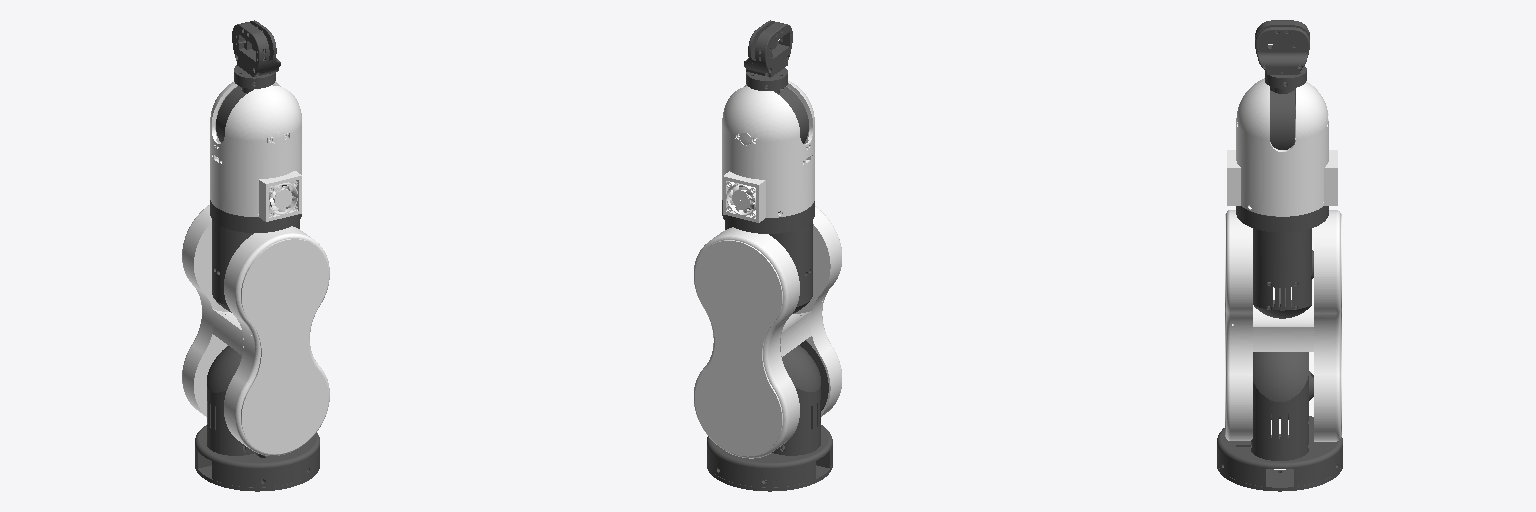
robot.urdf — thor:
<?xml version="1.0" ?>
<!-- =================================================================================== -->
<!-- |    This document was autogenerated by xacro from /media/psf/thor-ros-moveit/src/thor_description/urdf/thor.xacro | -->
<!-- |    EDITING THIS FILE BY HAND IS NOT RECOMMENDED                                 | -->
<!-- =================================================================================== -->
<robot name="thor">
    <gazebo>
        <plugin filename="libgazebo_ros_control.so" name="gazebo_ros_control">
            <robotNamespace>/</robotNamespace>
            <robotSimType>gazebo_ros_control/DefaultRobotHWSim</robotSimType>
        </plugin>
    </gazebo>
    <gazebo reference="link_base">
        <material>Gazebo/White</material>
    </gazebo>
    <gazebo reference="link_art1">
        <material>Gazebo/Black</material>
    </gazebo>
    <gazebo reference="link_art2">
        <material>Gazebo/White</material>
    </gazebo>
    <gazebo reference="link_art3">
        <material>Gazebo/Black</material>
    </gazebo>
    <gazebo reference="link_art4">
        <material>Gazebo/White</material>
    </gazebo>
    <gazebo reference="link_art5">
        <material>Gazebo/Black</material>
    </gazebo>
    <gazebo reference="link_art6">
        <material>Gazebo/Black</material>
    </gazebo>
    <gazebo reference="link_hand">
        <material>Gazebo/Black</material>
    </gazebo>
    <gazebo reference="link_finger_left">
        <material>Gazebo/White</material>
    </gazebo>
    <gazebo reference="link_finger_right">
        <material>Gazebo/White</material>
    </gazebo>
    <link name="dummy_link" />
    <joint name="dummy_joint" type="fixed">
        <parent link="dummy_link" />
        <child link="link_base" />
    </joint>
    <link name="link_base">
        <collision>
            <origin rpy="0 0 0" xyz="0 0 0" />
            <geometry>
                <mesh filename="package://thor_description/meshes/base.stl" scale="0.001 0.001 0.001" />
            </geometry>
        </collision>
        <visual>
            <origin rpy="0 0 0" xyz="0 0 0" />
            <geometry>
                <mesh filename="package://thor_description/meshes/base.stl" scale="0.001 0.001 0.001" />
            </geometry>
            <material name="white">
                <color rgba="1 1 1 1" />
            </material>
        </visual>
        <inertial>
            <mass value="20" />
            <inertia ixx="4778335232" ixy="61676072" ixz="-346234336" iyy="9956602880" iyz="-3673513" izz="12350248960" />
            <origin xyz="0 0 0" rpy="0 0 0" />
        </inertial>
    </link>
    <joint name="joint_base_art1_yaw" type="revolute">
        <origin rpy="0 0 0" xyz="0 0 0.104" />
        <axis xyz="0 0 1" />
        <parent link="link_base" />
        <child link="link_art1" />
        <limit effort="8" lower="-3.1415" upper="3.1415" velocity="1" />
    </joint>
    <link name="link_art1">
        <collision>
            <origin rpy="0 0 0" xyz="0 0 0" />
            <geometry>
                <mesh filename="package://thor_description/meshes/art1.stl" scale="0.001 0.001 0.001" />
            </geometry>
        </collision>
        <visual>
            <origin rpy="0 0 0" xyz="0 0 0" />
            <geometry>
                <mesh filename="package://thor_description/meshes/art1.stl" scale="0.001 0.001 0.001" />
            </geometry>
            <material name="black">
                <color rgba="0.4 0.4 0.4 1" />
            </material>
        </visual>
        <inertial>
            <mass value="1.6" />
            <inertia ixx="2091996160" ixy="-6433.202148" ixz="-9487.117188" iyy="2178797312" iyz="96796960" izz="1449157760" />
            <origin xyz="0 0 0" rpy="0 0 0" />
        </inertial>
    </link>
    <joint name="joint_art1_art2_pitch" type="revolute">
        <origin rpy="1.5707963267948966 -1.5707963267948966 0" xyz="0 -0.0318752 0.0974304" />
        <axis xyz="0 0 1" />
        <parent link="link_art1" />
        <child link="link_art2" />
        <limit effort="20" lower="-1.5707963267948966" upper="1.5707963267948966" velocity="1" />
    </joint>
    <link name="link_art2">
        <collision>
            <origin rpy="0 0 0" xyz="0 0 0" />
            <geometry>
                <mesh filename="package://thor_description/meshes/art2.stl" scale="0.001 0.001 0.001" />
            </geometry>
        </collision>
        <visual>
            <origin rpy="0 0 0" xyz="0 0 0" />
            <geometry>
                <mesh filename="package://thor_description/meshes/art2.stl" scale="0.001 0.001 0.001" />
            </geometry>
            <material name="white" />
        </visual>
        <inertial>
            <mass value="0.8" />
            <inertia ixx="2494758144" ixy="169831.156250" ixz="-192684608" iyy="5296528896" iyz="-4347370" izz="4277223680" />
            l
            <origin xyz="0 0 0" rpy="0 0 0" />
        </inertial>
    </link>
    <joint name="joint_art2_art3_pitch" type="revolute">
        <origin rpy="0 0 0" xyz="0.160 0 0" />
        <axis xyz="0 0 1" />
        <parent link="link_art2" />
        <child link="link_art3" />
        <limit effort="8" lower="-1.5707963267948966" upper="1.5707963267948966" velocity="1" />
    </joint>
    <link name="link_art3">
        <collision>
            <origin rpy="0 0 0" xyz="0 0 0" />
            <geometry>
                <mesh filename="package://thor_description/meshes/art3.stl" scale="0.001 0.001 0.001" />
            </geometry>
        </collision>
        <visual>
            <origin rpy="0 0 0" xyz="0 0 0" />
            <geometry>
                <mesh filename="package://thor_description/meshes/art3.stl" scale="0.001 0.001 0.001" />
            </geometry>
            <material name="black" />
        </visual>
        <inertial>
            <mass value="1.1" />
            <inertia ixx="509821408" ixy="-4423478.5" ixz="1108099" iyy="861984512" iyz="-62569.3125" izz="946194816" />
            <origin xyz="0 0 0" rpy="0 0 0" />
        </inertial>
    </link>
    <joint name="joint_art3_art4_roll" type="revolute">
        <origin rpy="0 1.5707963267948966 0" xyz="0.0885 0 -0.035" />
        <axis xyz="0 0 1" />
        <parent link="link_art3" />
        <child link="link_art4" />
        <limit effort="4" lower="-3.1415" upper="3.1415" velocity="1" />
    </joint>
    <link name="link_art4">
        <collision>
            <origin rpy="0 0 0" xyz="0 0 0" />
            <geometry>
                <mesh filename="package://thor_description/meshes/art4.stl" scale="0.001 0.001 0.001" />
            </geometry>
        </collision>
        <visual>
            <origin rpy="0 0 0" xyz="0 0 0" />
            <geometry>
                <mesh filename="package://thor_description/meshes/art4.stl" scale="0.001 0.001 0.001" />
            </geometry>
            <material name="white" />
        </visual>
        <inertial>
            <mass value="0.5" />
            <inertia ixx="766526720" ixy="513188.25" ixz="-15419.867188" iyy="898525120" iyz="546204.625" izz="718228096" />
            <origin xyz="0 0 0" rpy="0 0 0" />
        </inertial>
    </link>
    <joint name="joint_art4_art5_pitch" type="revolute">
        <origin rpy="0 -1.5707963267948966 0" xyz="0 0 0.1" />
        <axis xyz="0 0 1" />
        <parent link="link_art4" />
        <child link="link_art5" />
        <limit effort="6" lower="-1.5" upper="1.5" velocity="1" />
    </joint>
    <link name="link_art5">
        <collision>
            <origin rpy="0 0 0" xyz="0 0 0" />
            <geometry>
                <mesh filename="package://thor_description/meshes/art5.stl" scale="0.001 0.001 0.001" />
            </geometry>
        </collision>
        <visual>
            <origin rpy="0 0 0" xyz="0 0 0" />
            <geometry>
                <mesh filename="package://thor_description/meshes/art5.stl" scale="0.001 0.001 0.001" />
            </geometry>
            <material name="black" />
        </visual>
        <inertial>
            <mass value="0.5" />
            <inertia ixx="22853730" ixy="-103.737335" ixz="-10548.656250" iyy="16640192" iyz="-0.059193" izz="36724072" />
            <origin xyz="0 0 0" rpy="0 0 0" />
        </inertial>
    </link>
    <joint name="joint_art5_art6_roll" type="revolute">
        <origin rpy="0 1.5707963267948966 0" xyz="0 0 0" />
        <axis xyz="0 0 1" />
        <parent link="link_art5" />
        <child link="link_art6" />
        <limit effort="4" lower="-3.1415" upper="3.1415" velocity="1" />
    </joint>
    <link name="link_art6">
        <collision>
            <origin rpy="0 0 0" xyz="0 0 0" />
            <geometry>
                <mesh filename="package://thor_description/meshes/art6.stl" scale="0.001 0.001 0.001" />
            </geometry>
        </collision>
        <visual>
            <origin rpy="0 0 0" xyz="0 0 0" />
            <geometry>
                <mesh filename="package://thor_description/meshes/art6.stl" scale="0.001 0.001 0.001" />
            </geometry>
            <material name="black" />
        </visual>
        <inertial>
            <mass value="0.5" />
            <inertia ixx="33753776" ixy="-2.472111" ixz="-21.388384" iyy="33753756" iyz="0.078231" izz="24939260" />
            <origin xyz="0 0 0" rpy="0 0 0" />
        </inertial>
    </link>
    <joint name="joint_arm_hand" type="fixed">
        <origin rpy="1.5707963267948966 0 0" xyz="0 0.015 0.07" />
        <parent link="link_art6" />
        <child link="link_hand" />
    </joint>
    <link name="link_hand">
        <collision>
            <origin rpy="0 0 0" xyz="0 0 0" />
            <geometry>
                <mesh filename="package://thor_description/meshes/hand.stl" scale="0.001 0.001 0.001" />
            </geometry>
        </collision>
        <visual>
            <origin rpy="0 0 0" xyz="0 0 0" />
            <geometry>
                <mesh filename="package://thor_description/meshes/hand.stl" scale="0.001 0.001 0.001" />
            </geometry>
            <material name="black" />
        </visual>
        <inertial>
            <mass value="0.11" />
            <inertia ixx="17803724" ixy="-414543.5" ixz="225471.4375" iyy="21783168" iyz="-1840743.875" izz="28014524" />
            <origin xyz="0 0 0" rpy="0 0 0" />
        </inertial>
    </link>
    <joint name="joint_hand_finger_left" type="prismatic">
        <parent link="link_hand" />
        <child link="link_finger_left" />
        <origin rpy="0 0 0" xyz="0.05 0.02 0" />
        <axis xyz="-0.5547 0.8321 0" />
        <limit effort="100" lower="0.0" upper="0.06" velocity="10" />
        <dynamics damping="0.3" friction="0.5" />
    </joint>
    <joint name="joint_hand_finger_right" type="prismatic">
        <parent link="link_hand" />
        <child link="link_finger_right" />
        <origin rpy="0 0 0" xyz="-0.05 0.02 0" />
        <axis xyz="0.5547 0.8321 0" />
        <limit effort="100" lower="0.0" upper="0.06" velocity="10" />
        <mimic joint="joint_hand_finger_left" />
        <dynamics damping="0.3" friction="0.5" />
    </joint>
    <gazebo>
        <plugin filename="libroboticsgroup_upatras_gazebo_mimic_joint_plugin.so" name="joint_hand_finger_right_mimic_joint_plugin">
            <joint>joint_hand_finger_left</joint>
            <mimicJoint>joint_hand_finger_right</mimicJoint>
            <multiplier>1.0</multiplier>
            <offset>0</offset>
            <sensitiveness>0.0</sensitiveness>
            <maxEffort>1.0</maxEffort>
        </plugin>
    </gazebo>
    <link name="link_finger_left">
        <collision>
            <origin rpy="0 0 0" xyz="0 0 0" />
            <geometry>
                <mesh filename="package://thor_description/meshes/finger.stl" scale="-0.001 0.001 0.001" />
            </geometry>
        </collision>
        <visual>
            <origin rpy="0 0 0" xyz="0 0 0" />
            <geometry>
                <mesh filename="package://thor_description/meshes/finger.stl" scale="-0.001 0.001 0.001" />
            </geometry>
            <material name="white" />
        </visual>
        <inertial>
            <mass value="0.01" />
            <inertia ixx="3358780.25" ixy="-145110.265625" ixz="93.539124" iyy="627437.875" iyz="1280.361816" izz="3410634.5" />
            <origin xyz="0 0 0" rpy="0 0 0" />
        </inertial>
    </link>
    <link name="link_finger_right">
        <collision>
            <origin rpy="0 0 0" xyz="0 0 0" />
            <geometry>
                <mesh filename="package://thor_description/meshes/finger.stl" scale="0.001 0.001 0.001" />
            </geometry>
        </collision>
        <visual>
            <origin rpy="0 0 0" xyz="0 0 0" />
            <geometry>
                <mesh filename="package://thor_description/meshes/finger.stl" scale="0.001 0.001 0.001" />
            </geometry>
            <material name="white" />
        </visual>
        <inertial>
            <mass value="0.01" />
            <inertia ixx="3358780.25" ixy="-145110.265625" ixz="93.539124" iyy="627437.875" iyz="1280.361816" izz="3410634.5" />
            <origin xyz="0 0 0" rpy="0 0 0" />
        </inertial>
    </link>
    <transmission name="trans_joint_base_art1_yaw">
        <type>transmission_interface/SimpleTransmission</type>
        <joint name="joint_base_art1_yaw">
            <hardwareInterface>hardware_interface/PositionJointInterface</hardwareInterface>
        </joint>
        <actuator name="joint_base_art1_yaw_motor">
            <hardwareInterface>hardware_interface/PositionJointInterface</hardwareInterface>
            <mechanicalReduction>1</mechanicalReduction>
        </actuator>
    </transmission>
    <transmission name="trans_joint_art1_art2_pitch">
        <type>transmission_interface/SimpleTransmission</type>
        <joint name="joint_art1_art2_pitch">
            <hardwareInterface>hardware_interface/PositionJointInterface</hardwareInterface>
        </joint>
        <actuator name="joint_art1_art2_pitch_motor">
            <hardwareInterface>hardware_interface/PositionJointInterface</hardwareInterface>
            <mechanicalReduction>1</mechanicalReduction>
        </actuator>
    </transmission>
    <transmission name="trans_joint_art2_art3_pitch">
        <type>transmission_interface/SimpleTransmission</type>
        <joint name="joint_art2_art3_pitch">
            <hardwareInterface>hardware_interface/PositionJointInterface</hardwareInterface>
        </joint>
        <actuator name="joint_art2_art3_pitch_motor">
            <hardwareInterface>hardware_interface/PositionJointInterface</hardwareInterface>
            <mechanicalReduction>1</mechanicalReduction>
        </actuator>
    </transmission>
    <transmission name="trans_joint_art3_art4_roll">
        <type>transmission_interface/SimpleTransmission</type>
        <joint name="joint_art3_art4_roll">
            <hardwareInterface>hardware_interface/PositionJointInterface</hardwareInterface>
        </joint>
        <actuator name="joint_art3_art4_roll_motor">
            <hardwareInterface>hardware_interface/PositionJointInterface</hardwareInterface>
            <mechanicalReduction>1</mechanicalReduction>
        </actuator>
    </transmission>
    <transmission name="trans_joint_art4_art5_pitch">
        <type>transmission_interface/SimpleTransmission</type>
        <joint name="joint_art4_art5_pitch">
            <hardwareInterface>hardware_interface/PositionJointInterface</hardwareInterface>
        </joint>
        <actuator name="joint_art4_art5_pitch_motor">
            <hardwareInterface>hardware_interface/PositionJointInterface</hardwareInterface>
            <mechanicalReduction>1</mechanicalReduction>
        </actuator>
    </transmission>
    <transmission name="trans_joint_art5_art6_roll">
        <type>transmission_interface/SimpleTransmission</type>
        <joint name="joint_art5_art6_roll">
            <hardwareInterface>hardware_interface/PositionJointInterface</hardwareInterface>
        </joint>
        <actuator name="joint_art5_art6_roll_motor">
            <hardwareInterface>hardware_interface/PositionJointInterface</hardwareInterface>
            <mechanicalReduction>1</mechanicalReduction>
        </actuator>
    </transmission>
    <transmission name="trans_joint_hand_finger_left">
        <type>transmission_interface/SimpleTransmission</type>
        <joint name="joint_hand_finger_left">
            <hardwareInterface>hardware_interface/PositionJointInterface</hardwareInterface>
        </joint>
        <actuator name="joint_hand_finger_left_motor">
            <hardwareInterface>hardware_interface/PositionJointInterface</hardwareInterface>
            <mechanicalReduction>1</mechanicalReduction>
        </actuator>
    </transmission>
    <transmission name="trans_joint_hand_finger_right">
        <type>transmission_interface/SimpleTransmission</type>
        <joint name="joint_hand_finger_right">
            <hardwareInterface>hardware_interface/EffortJointInterface</hardwareInterface>
        </joint>
        <actuator name="joint_hand_finger_right_motor">
            <hardwareInterface>hardware_interface/EffortJointInterface</hardwareInterface>
            <mechanicalReduction>1</mechanicalReduction>
        </actuator>
    </transmission>
</robot>

--- Facts derived from the render (not from the file) ---
Views: 3 orthographic renders of the robot side by side, from view 1: azimuth 30°, elevation 25°; view 2: azimuth 150°, elevation 25°; view 3: azimuth 270°, elevation 25°.
Model thor with 11 links and 10 joints (6 revolute, 2 prismatic, 2 fixed), rooted at dummy_link, posed all joints at 0.
Visible links, largest first — view 1: link_art2, link_art4, link_art1, link_art3, link_hand, link_art6, link_art5; view 2: link_art2, link_art4, link_art1, link_art3, link_hand, link_art6, link_art5; view 3: link_art2, link_art4, link_art1, link_art3, link_hand, link_art5, link_art6.
Boxes of the visible links, box(x1,y1,x2,y2) form: link_art2: box(182, 205, 329, 455); link_art4: box(210, 81, 301, 221); link_art1: box(195, 346, 319, 491); link_art3: box(210, 185, 301, 312); link_hand: box(232, 20, 280, 76); link_art6: box(234, 65, 275, 93); link_art5: box(216, 86, 246, 142); link_art2: box(694, 206, 841, 458); link_art4: box(722, 81, 814, 222); link_art1: box(707, 340, 832, 491); link_art3: box(722, 186, 814, 313); link_hand: box(744, 20, 792, 77); link_art6: box(746, 68, 787, 93); link_art5: box(778, 87, 808, 143); link_art2: box(1225, 210, 1341, 441); link_art4: box(1227, 78, 1337, 216); link_art1: box(1217, 352, 1342, 491); link_art3: box(1236, 206, 1328, 318); link_hand: box(1255, 20, 1309, 74); link_art5: box(1270, 86, 1294, 149); link_art6: box(1265, 66, 1306, 118).
Size in the robot's own frame: 0.15 by 0.15 by 0.5889 metres.
7 mesh visuals loaded from 9 distinct referenced files (7 binary STL); not drawn: 3 (reference not matched to a file when rendering).
